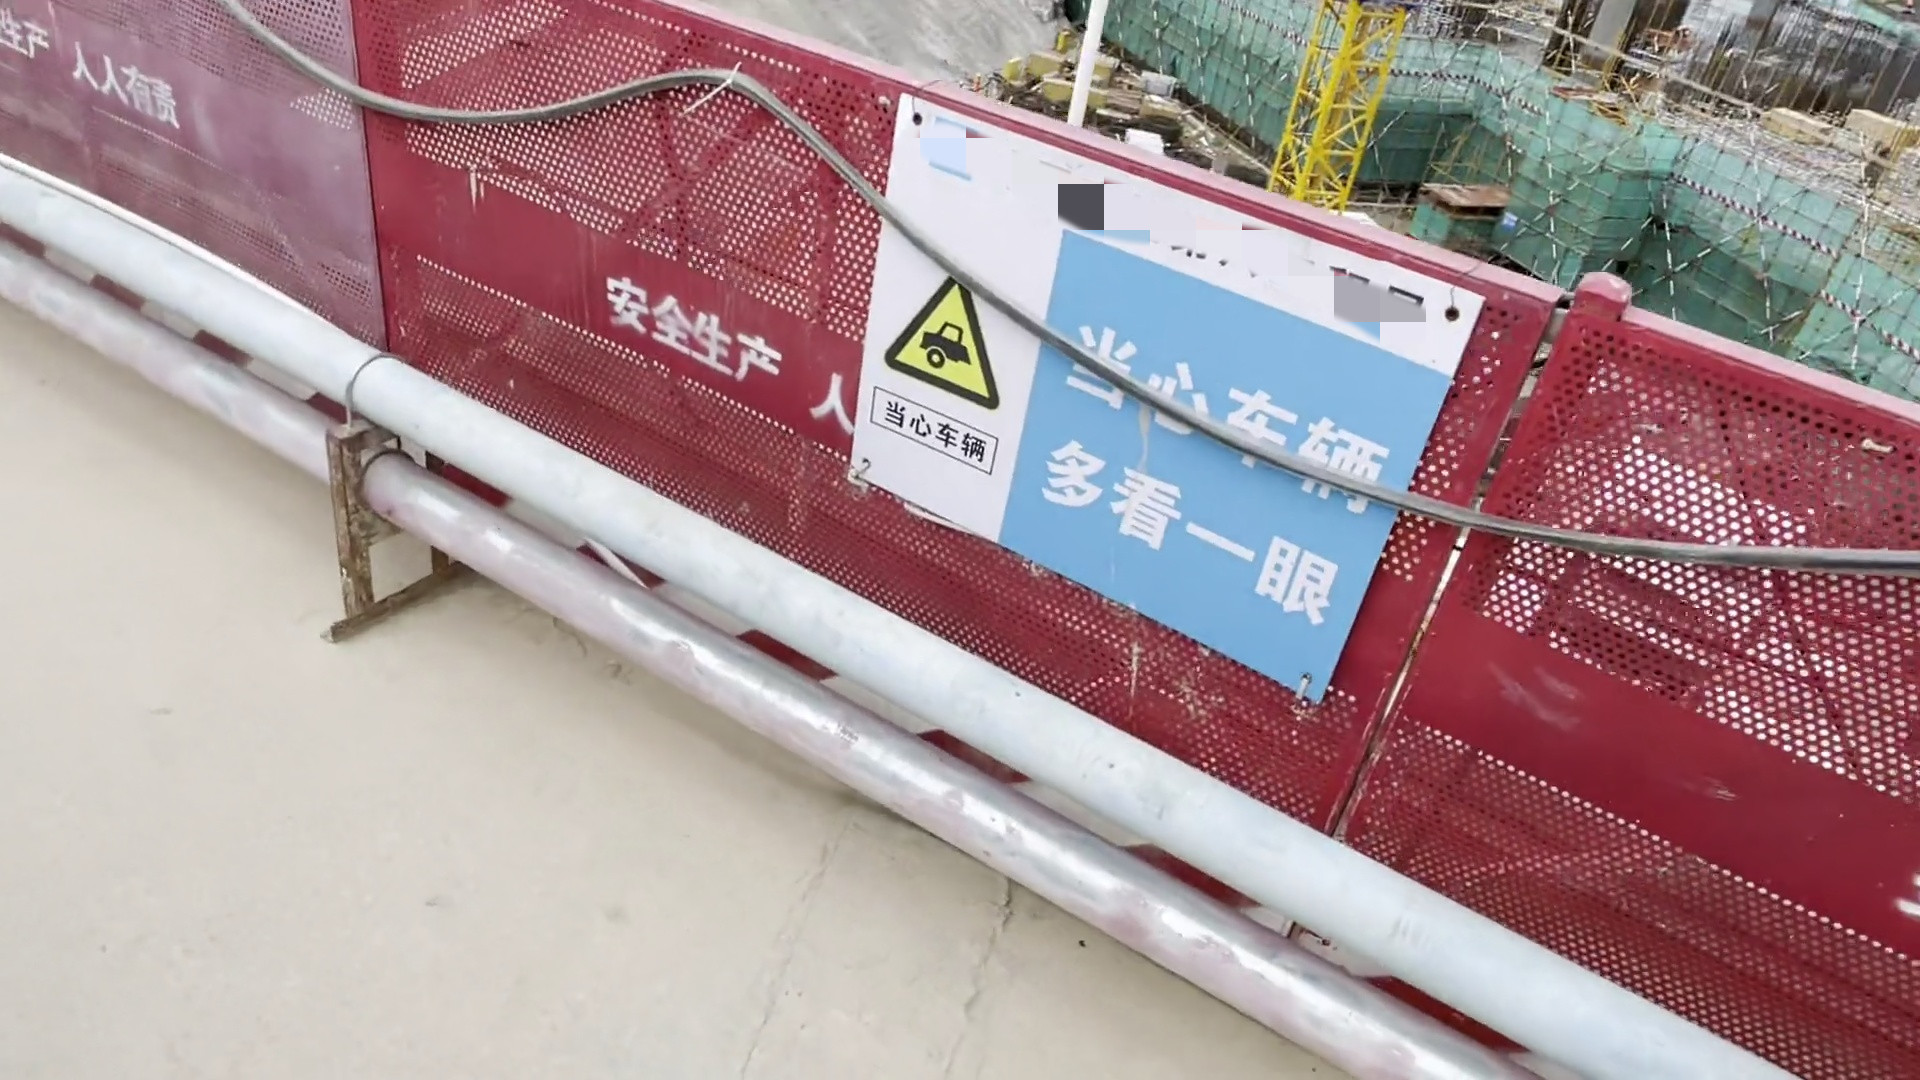fence: (1549, 291, 1911, 1080), (389, 4, 855, 546)
slogan: (855, 87, 1486, 723)
